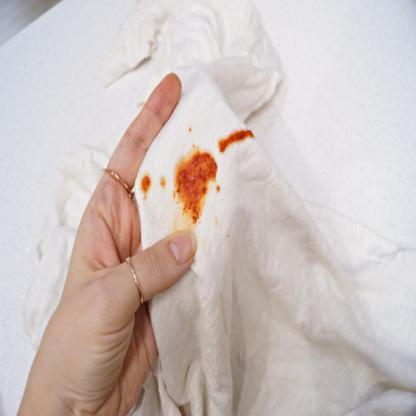kimchi: (174, 151, 218, 215), (213, 125, 254, 151), (136, 174, 155, 196), (157, 174, 167, 189), (222, 228, 233, 237), (216, 181, 224, 193), (188, 141, 197, 151), (186, 123, 192, 128)
